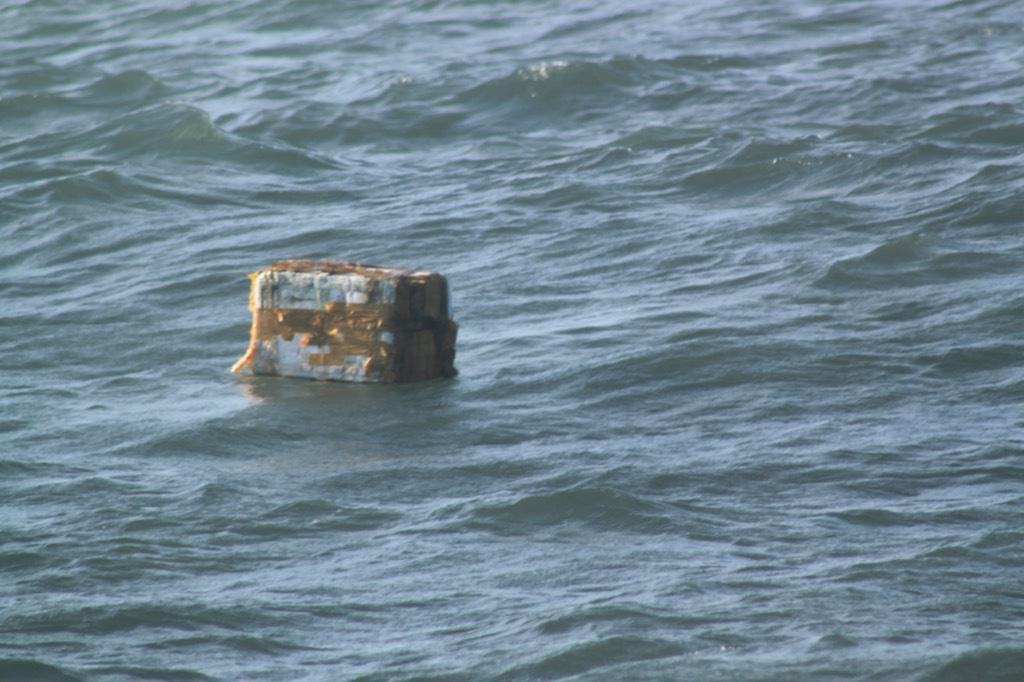plastic: (209, 237, 486, 426)
